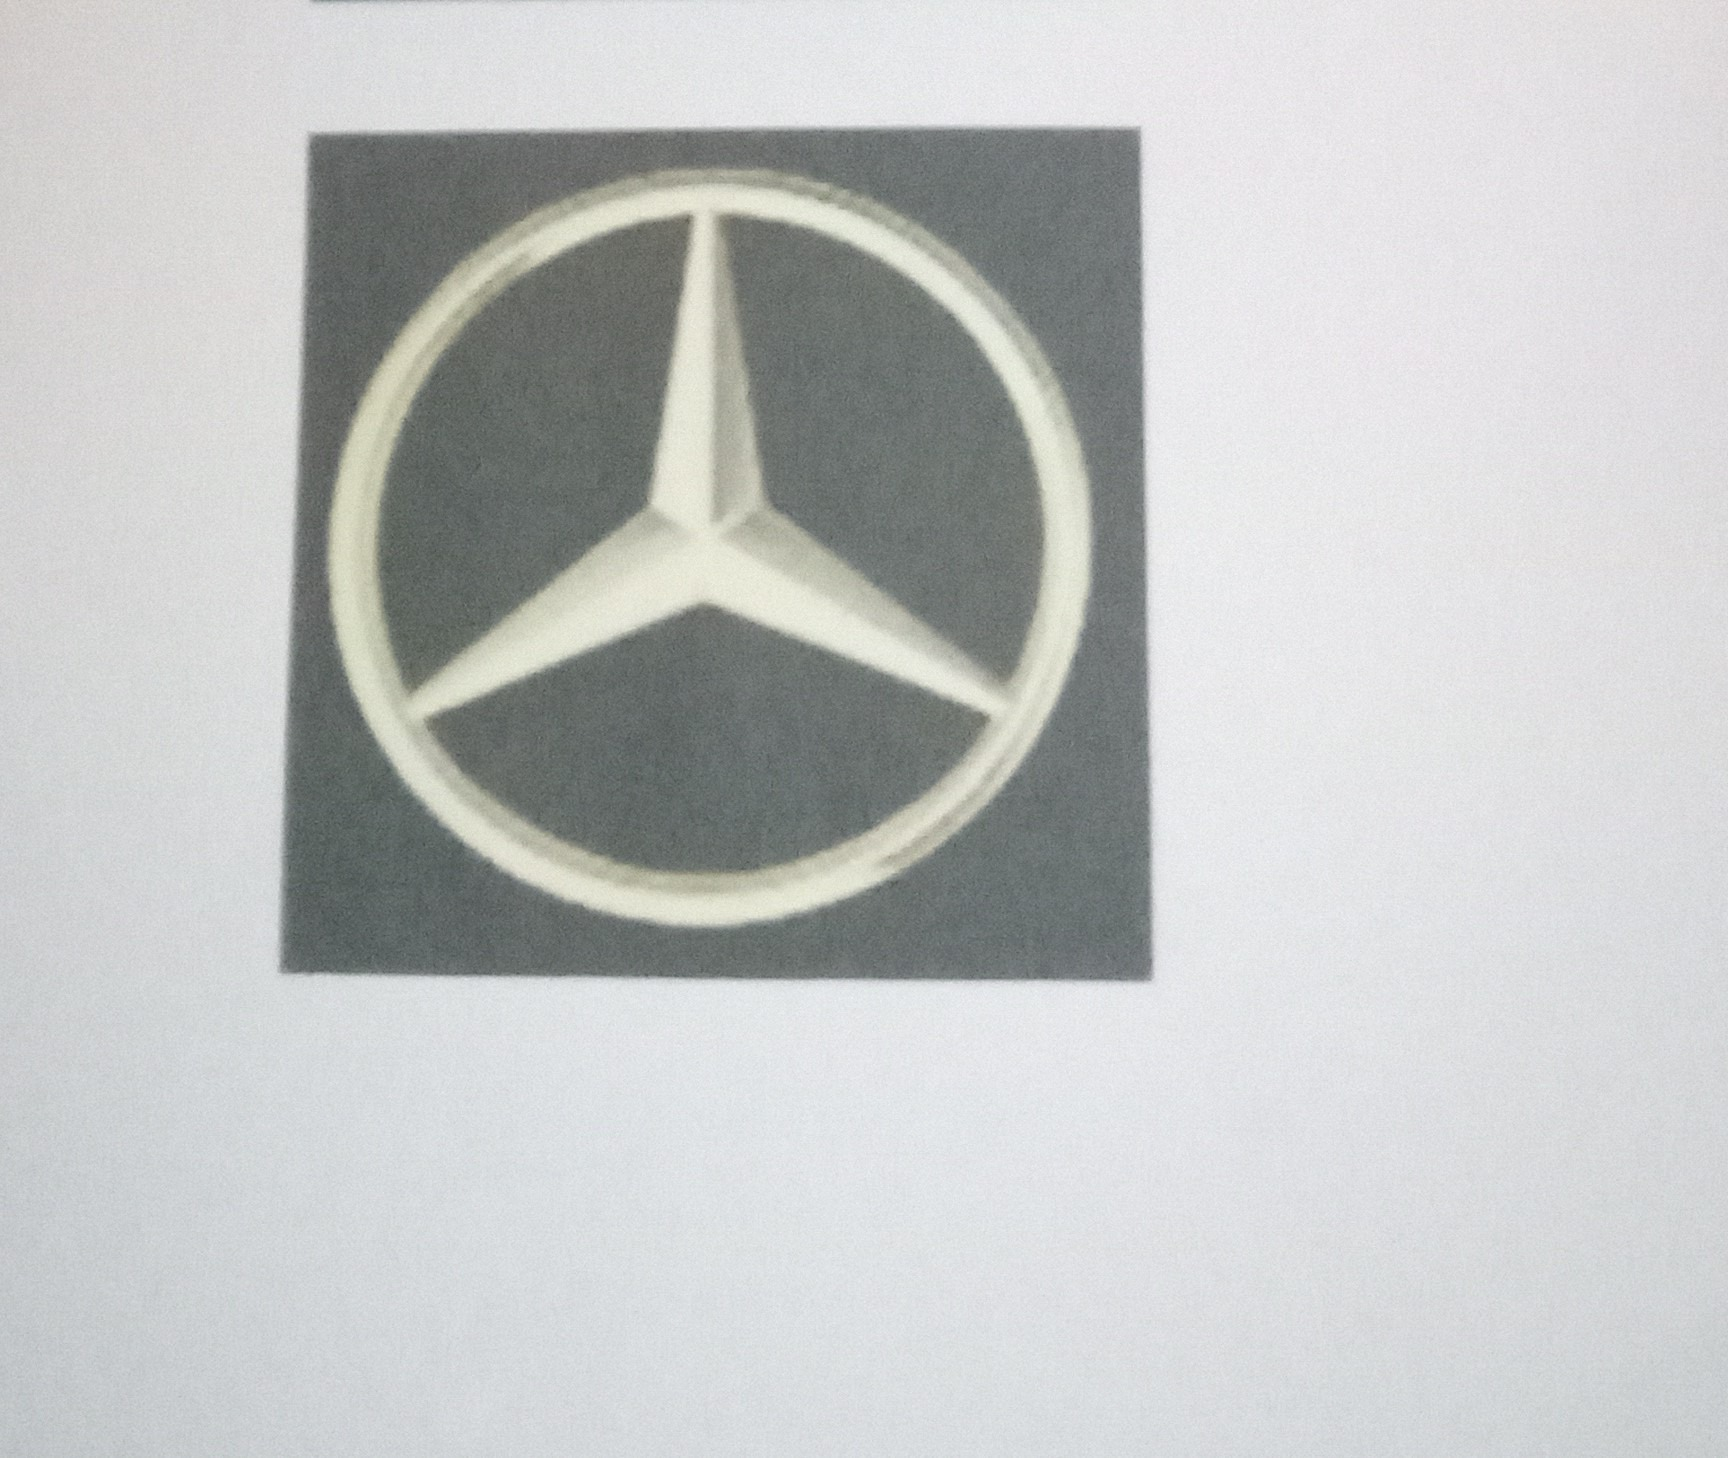Mercedes: (312, 143, 1137, 976)
